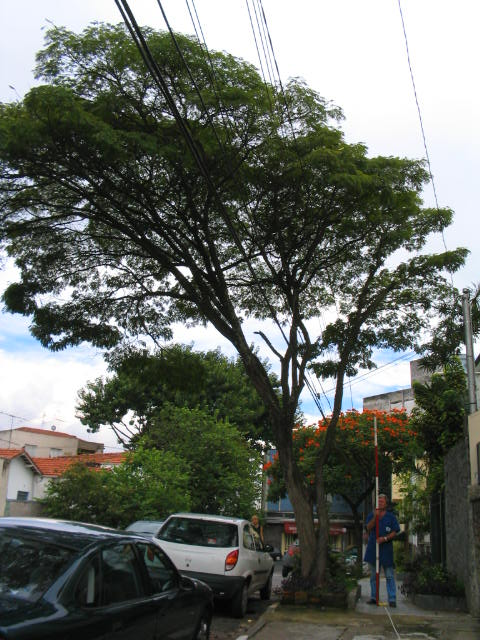crown: (4, 16, 467, 379)
stem: (279, 472, 345, 598)
stick: (368, 411, 383, 605)
tree: (1, 14, 469, 599)
